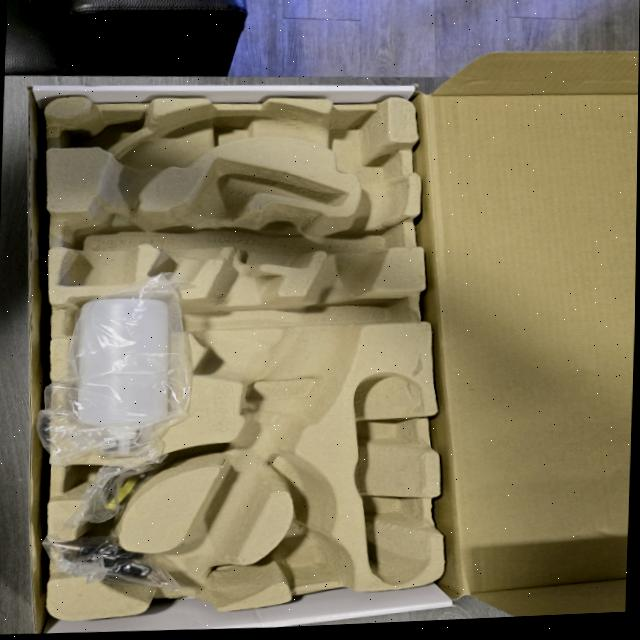1m: (60, 99, 405, 609)
2m: (149, 159, 348, 281)
3: (65, 297, 166, 454)
4m: (353, 375, 426, 584)
5m: (271, 524, 351, 583)
6: (50, 464, 155, 531)
7: (34, 533, 180, 593)
